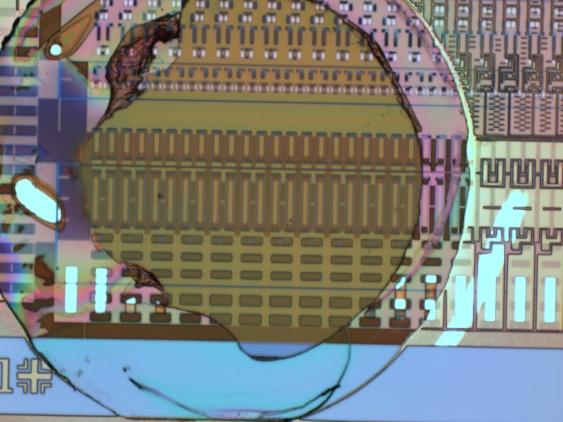BLOCK ETCH: (1, 1, 482, 422)
